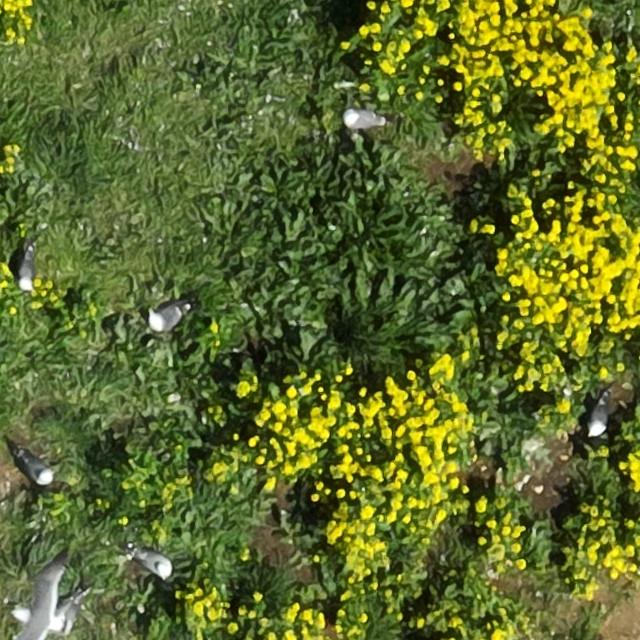F: (8, 552, 76, 640)
umineko: (134, 550, 174, 575), (19, 455, 51, 486), (150, 304, 183, 328), (588, 398, 608, 436), (344, 110, 382, 130), (18, 252, 34, 290)
